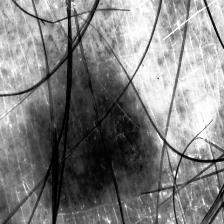Benign Marking or Mole: (24, 61, 156, 207)
